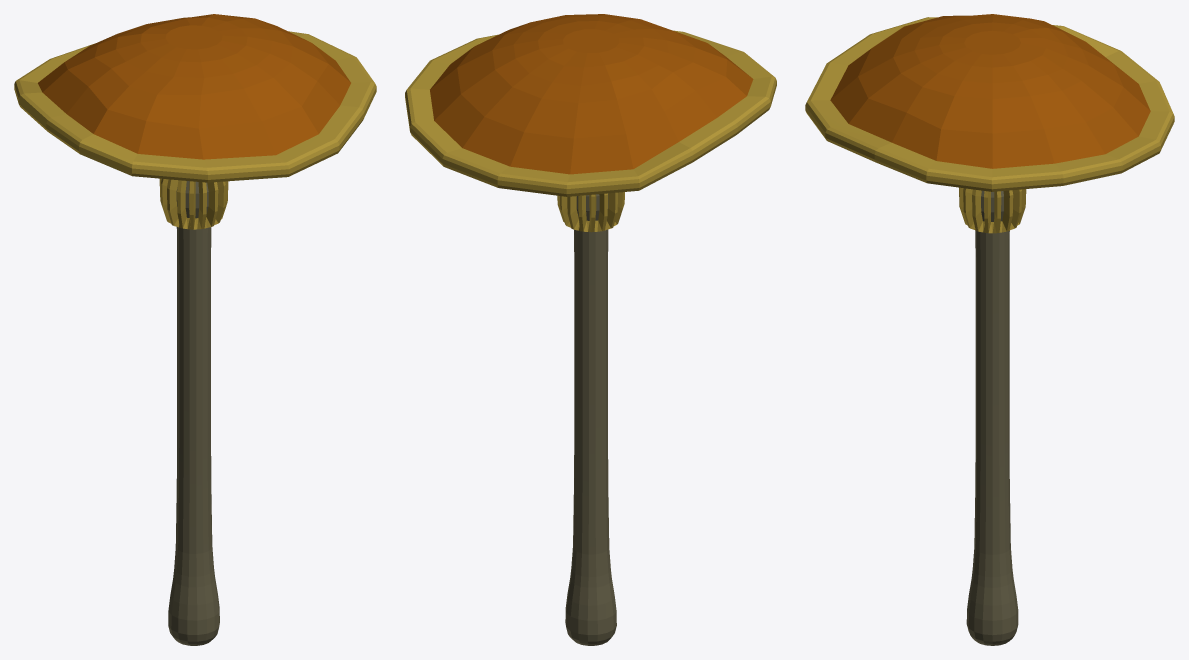
File: mushroom 6.fbx
The picture shows the model from 3 angles, left to right: view 1: azimuth 30°, elevation 25°; view 2: azimuth 150°, elevation 25°; view 3: azimuth 270°, elevation 25°; orthographic projection.
Visible parts, largest first — view 1: paddo_3_fin; view 2: paddo_3_fin; view 3: paddo_3_fin.
Part boxes in pixels (<box>): paddo_3_fin: <box>14,14,376,645</box>; paddo_3_fin: <box>405,14,776,645</box>; paddo_3_fin: <box>805,14,1174,645</box>.
Bounding box in the file's own units: 1703 × 3143 × 1764.
